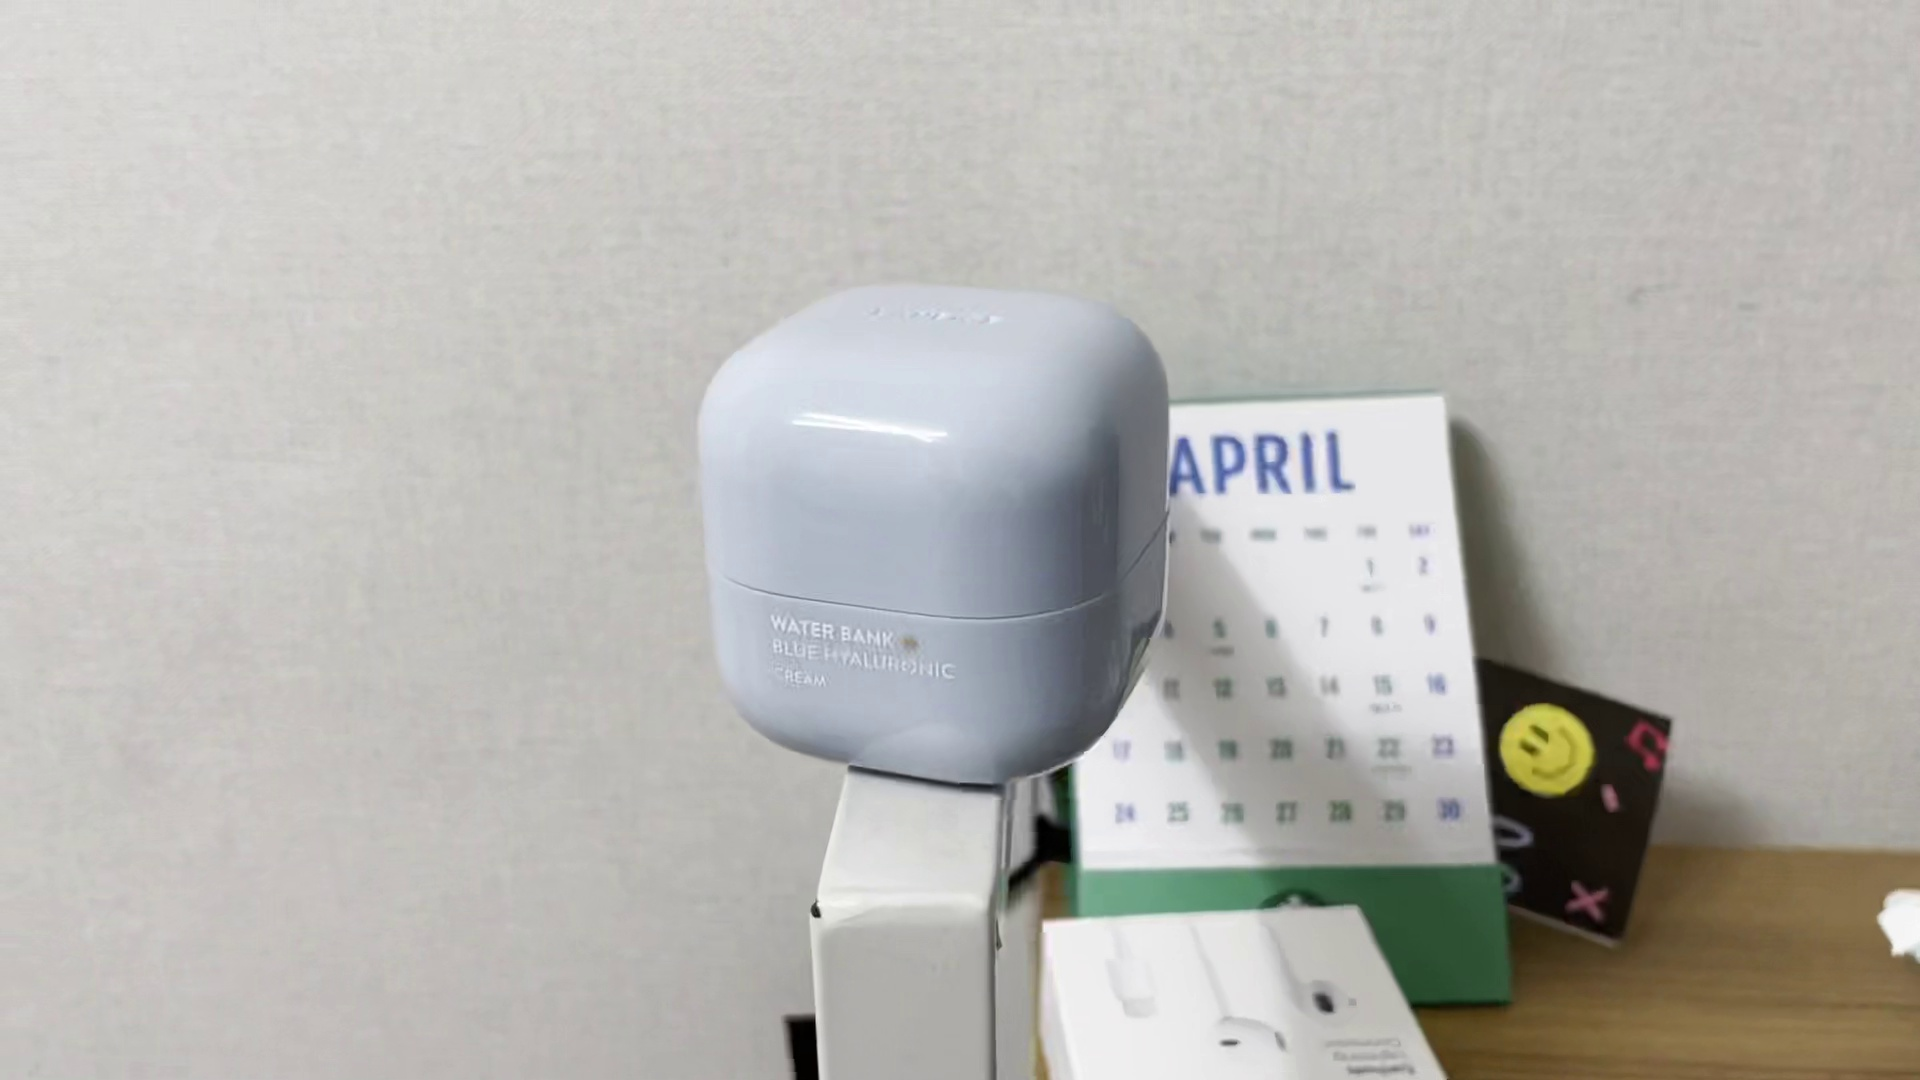cream: (691, 280, 1175, 786)
